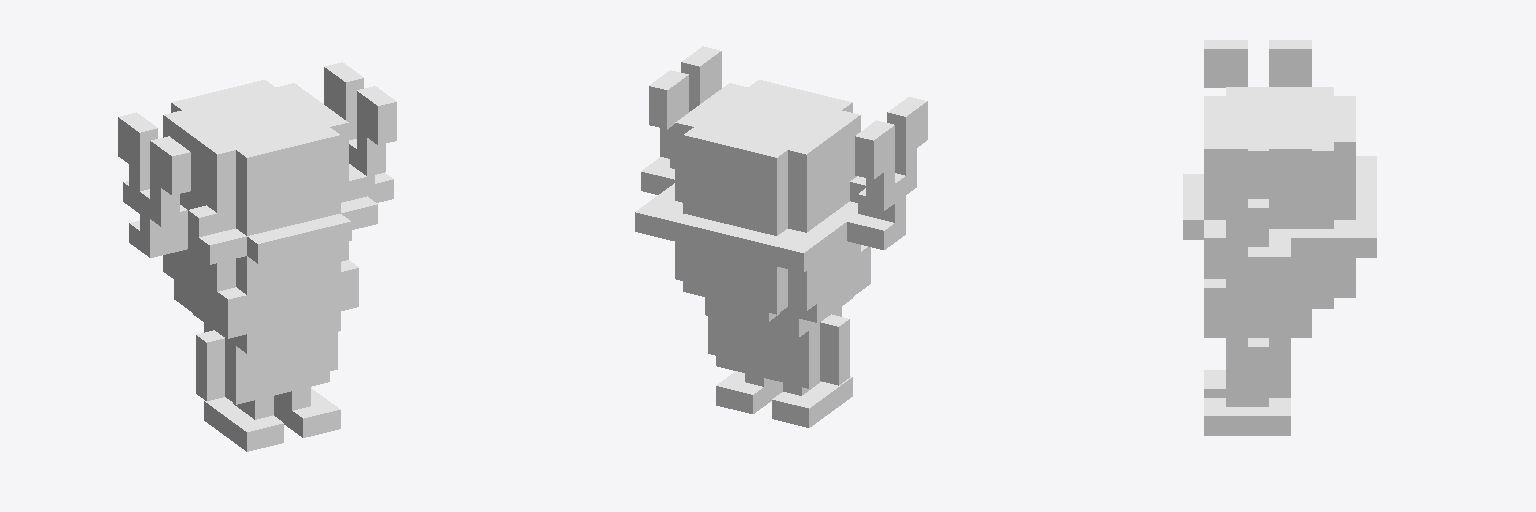
The model's file is qibao.obj.
The picture shows the model from 3 angles: view 1: azimuth 30°, elevation 25°; view 2: azimuth 150°, elevation 25°; view 3: azimuth 270°, elevation 25°; orthographic projection.
Size of the model in its own units: 13 by 16 by 9.